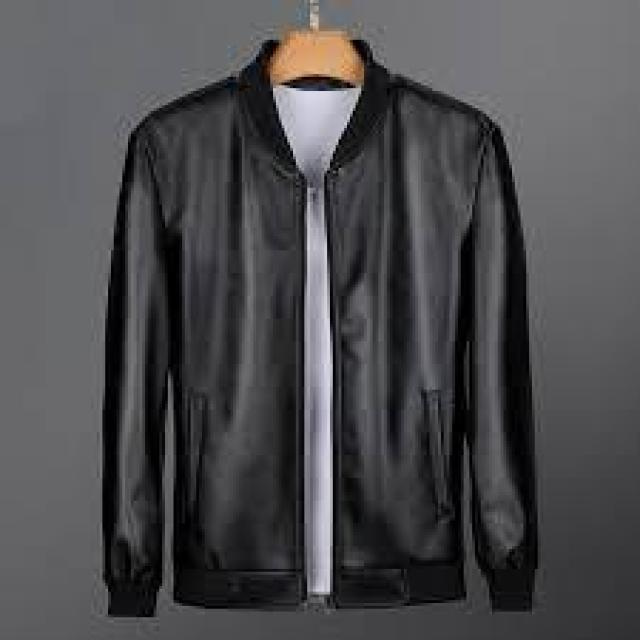jacket: (100, 38, 540, 613)
